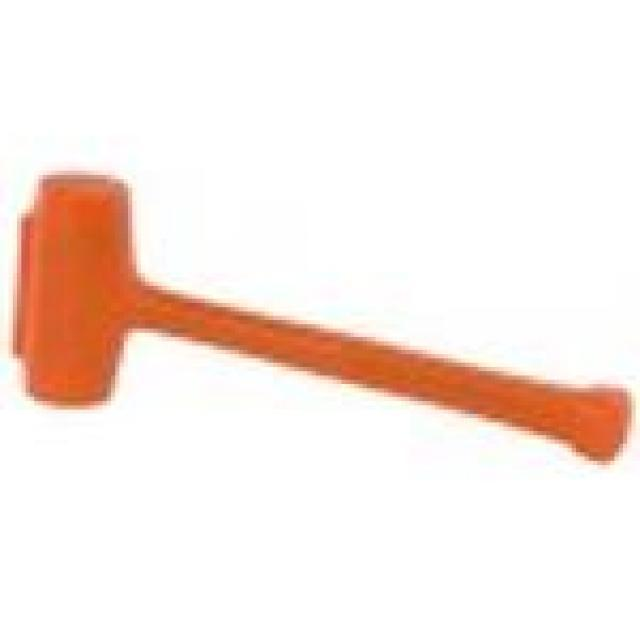hammer: (4, 161, 639, 476)
